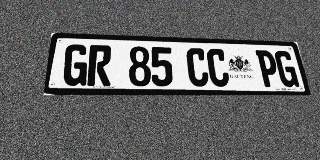5: (151, 47, 174, 86)
8: (129, 46, 151, 86)
C: (186, 48, 210, 87), (206, 48, 230, 87)
G: (62, 44, 89, 86), (274, 51, 300, 87)
P: (255, 50, 281, 87)
R: (87, 45, 112, 86)
